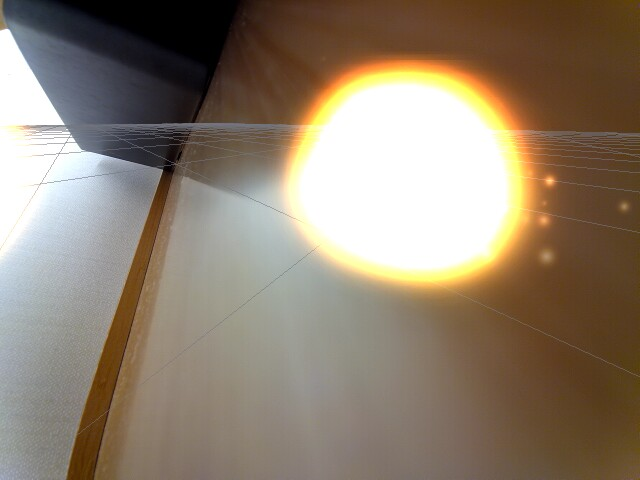firebig: (277, 56, 520, 304)
